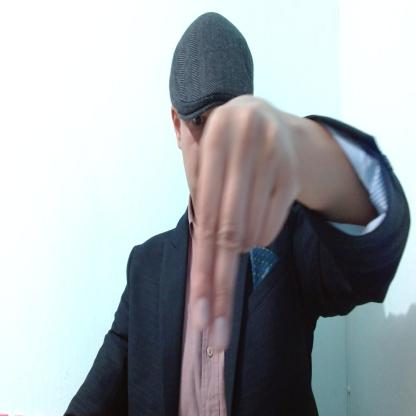N: (188, 96, 303, 350)
